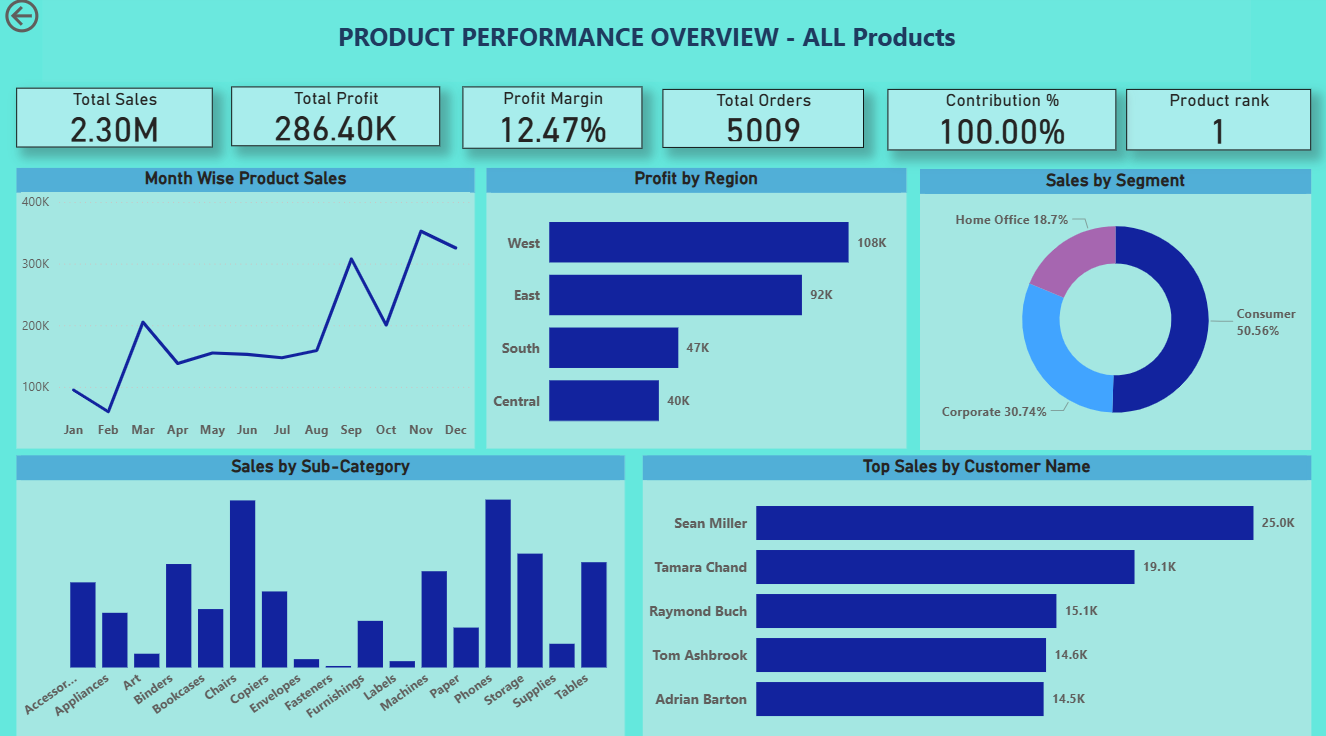

The dashboard page shown, as its layout file describes it:
{"tool":"powerbi","page":{"name":"Product Overview","canvas":[1280,720],"ordinal":1},"visuals":[{"type":"actionButton","box":[0,0,74.8,42.2],"z":0},{"type":"card","title":"Total Sales","fields":{"Values":["Sales.Total Sales"]},"box":[15.7,90.5,167.7,57.9],"z":1000},{"type":"card","title":"Total Profit","fields":{"Values":["Sales.Total Profit"]},"box":[194.2,91.7,177.3,59.1],"z":2000},{"type":"card","title":"Total Orders","fields":{"Values":["Sales.Total Orders"]},"box":[547.7,90.5,165.3,60.3],"z":3000},{"type":"lineChart","fields":{"Category":["DateTable.Month"],"Y":["Sum(Sales.Sales)"]},"box":[15.7,167.7,442.8,271.4],"z":4000},{"type":"clusteredBarChart","fields":{"Category":["Sales.Region"],"Y":["Sales.Total Profit"]},"box":[469.3,167.7,405.4,271.4],"z":5000},{"type":"card","title":"Avg Order Value","fields":{"Values":["Sales.Avg Order Value"]},"box":[722.7,90.5,181,57.9],"z":6000},{"type":"clusteredColumnChart","fields":{"Category":["Sales.Category"],"Y":["Sales.Total Sales"]},"box":[15.7,445.2,587.5,275.1],"z":7000},{"type":"donutChart","fields":{"Category":["Sales.Segment"],"Y":["Sales.Total Sales"]},"box":[887.9,168.9,377.6,271.4],"z":8000},{"type":"card","title":"Contribution %","fields":{"Values":["Sales.Product Contribution %"]},"box":[914.5,90.5,179.8,60.3],"z":9000},{"type":"clusteredBarChart","fields":{"Category":["Sales.Customer Name"],"Y":["Sales.Total Sales"]},"box":[620.1,445.2,645.4,275.1],"z":10000},{"type":"card","title":"Profit Margin","fields":{"Values":["Sales.Profit Margin %"]},"box":[380,90.5,156.8,60.3],"z":11000},{"type":"card","title":"Product rank","fields":{"Values":["Sales.Product Rank"]},"box":[1106.3,91.7,159.3,59.1],"z":12000},{"type":"card","fields":{"Values":["Sales.Product Title"]},"box":[41,0,1166.6,84.5],"z":13000}]}

Visuals, with their boxes in screenshot pixels (x1, y1, x2, y2), scaled from the page's 1280x720 canvas onto the 1326x736 screenshot:
actionButton: region(0, 0, 77, 43)
"Total Sales" card: region(16, 93, 190, 152)
"Total Profit" card: region(201, 94, 385, 154)
"Total Orders" card: region(567, 93, 739, 154)
lineChart - DateTable.Month x Sum(Sales.Sales): region(16, 171, 475, 449)
clusteredBarChart - Sales.Region x Sales.Total Profit: region(486, 171, 906, 449)
"Avg Order Value" card: region(749, 93, 936, 152)
clusteredColumnChart - Sales.Category x Sales.Total Sales: region(16, 455, 625, 735)
donutChart - Sales.Segment x Sales.Total Sales: region(920, 173, 1311, 450)
"Contribution %" card: region(947, 93, 1134, 154)
clusteredBarChart - Sales.Customer Name x Sales.Total Sales: region(642, 455, 1311, 735)
"Profit Margin" card: region(394, 93, 556, 154)
"Product rank" card: region(1146, 94, 1311, 154)
card - Sales.Product Title: region(42, 0, 1251, 86)
